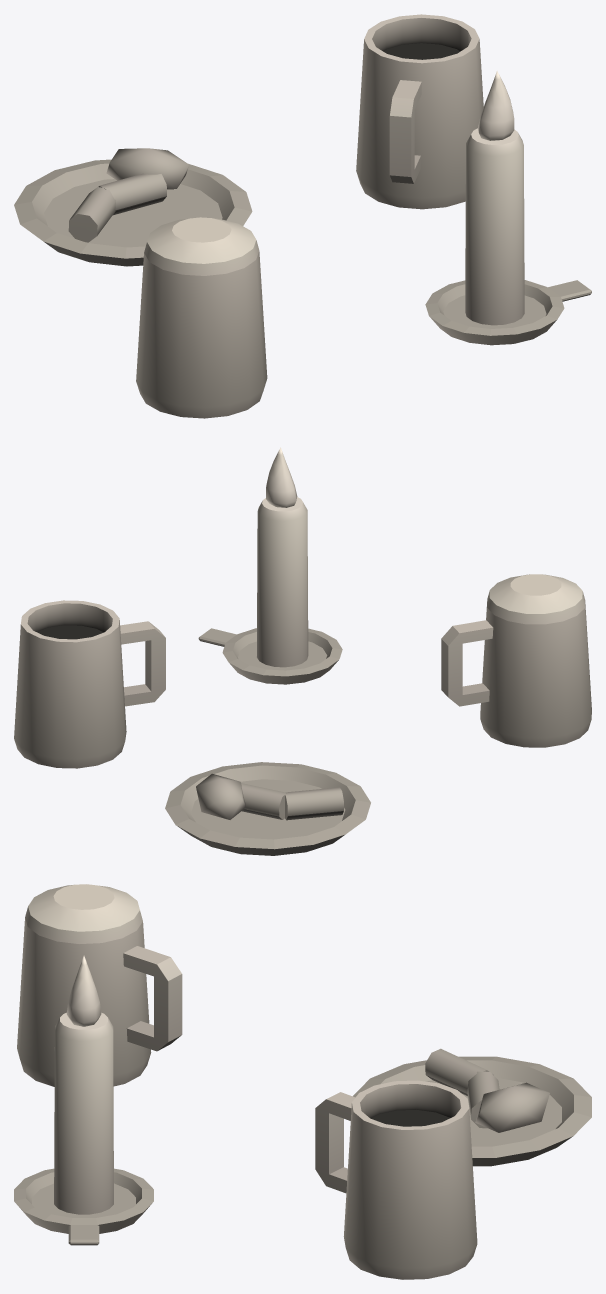
File: SM_VKI_Prop_TableDress_Tavern_C.fbx
3 views of the same model, one above another, from view 1: azimuth 30°, elevation 25°; view 2: azimuth 150°, elevation 25°; view 3: azimuth 270°, elevation 25° (orthographic). The views are drawn at different scales.
Visible parts, largest first — view 1: SM_VKI_Prop_TableDress_Tavern_C.001; view 2: SM_VKI_Prop_TableDress_Tavern_C.001; view 3: SM_VKI_Prop_TableDress_Tavern_C.001.
Boxes of the visible parts, bbox=[...] form: SM_VKI_Prop_TableDress_Tavern_C.001: bbox=[14, 14, 591, 418]; SM_VKI_Prop_TableDress_Tavern_C.001: bbox=[14, 447, 591, 855]; SM_VKI_Prop_TableDress_Tavern_C.001: bbox=[14, 884, 591, 1279].
Bounding box in the file's own units: 0.5713 × 0.277 × 0.5663.
